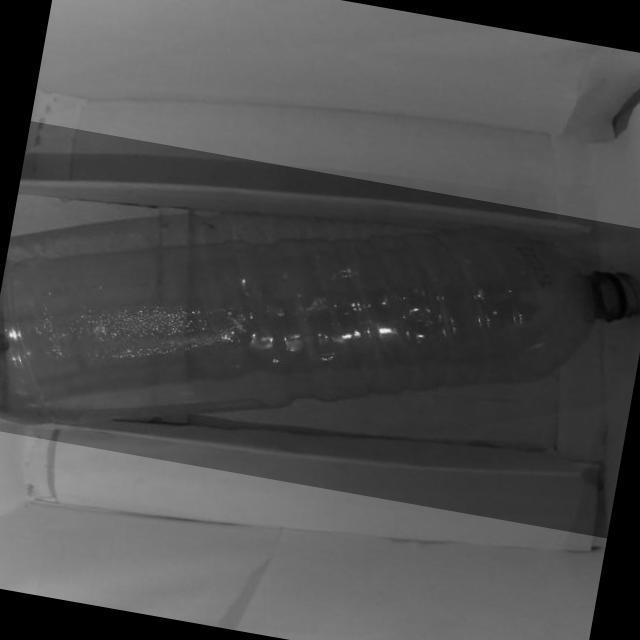good: (0, 120, 640, 538)
